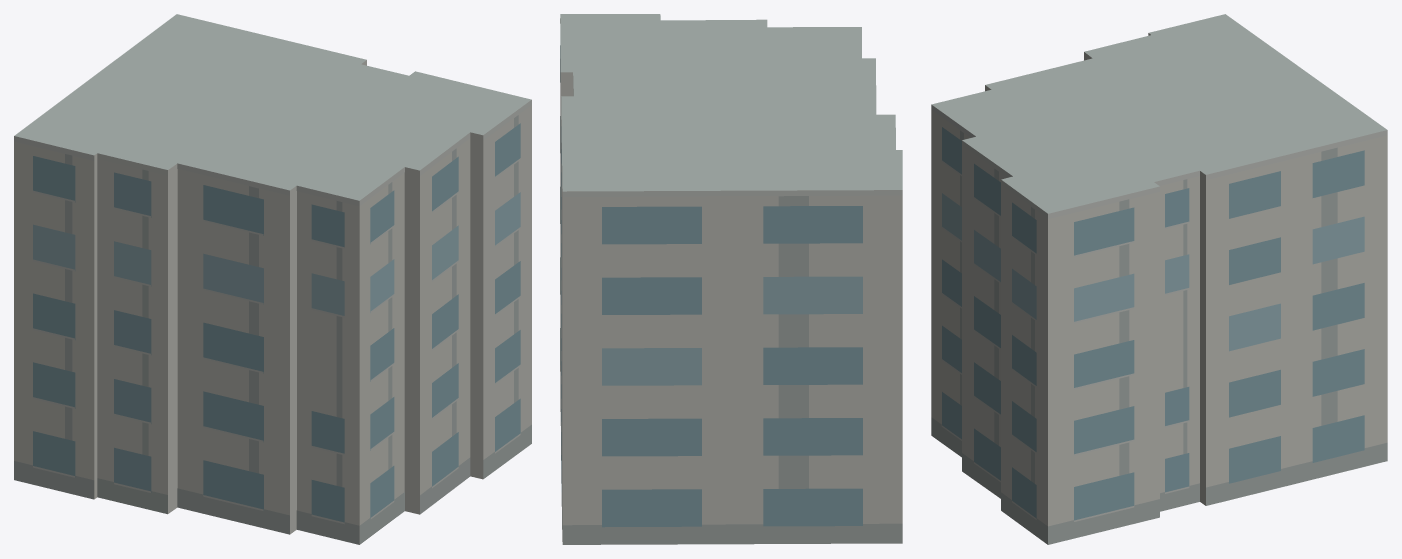
The model's file is survey-upis-32818034.glb.
3 views of the same model, side by side, from view 1: azimuth 30°, elevation 25°; view 2: azimuth 150°, elevation 25°; view 3: azimuth 270°, elevation 25° (orthographic). The views are drawn at different scales.
Visible parts, largest first — view 1: survey-upis-32818034.tmp; view 2: survey-upis-32818034.tmp; view 3: survey-upis-32818034.tmp.
Boxes of the visible parts, x1,y1,x2,y2 form: survey-upis-32818034.tmp: [14, 14, 531, 544]; survey-upis-32818034.tmp: [560, 14, 902, 544]; survey-upis-32818034.tmp: [931, 14, 1387, 544].
Bounding box in the file's own units: 19.81 × 15.3 × 19.12.
